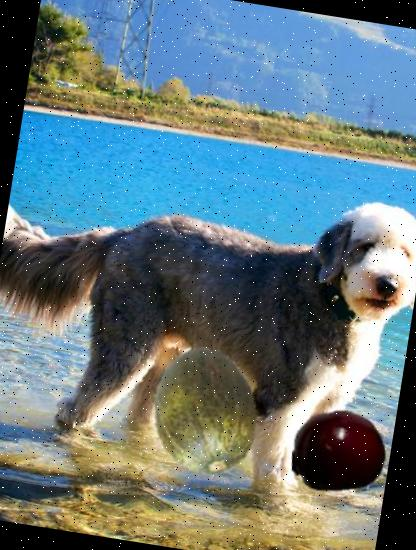Cherry: (285, 397, 394, 506)
Melon: (136, 338, 285, 487)
